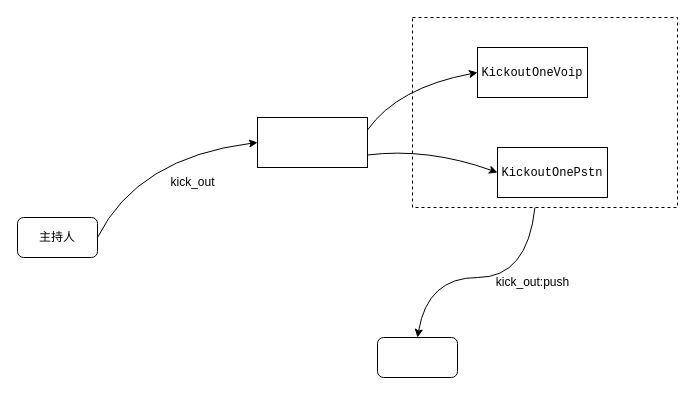
This 695x395 diagram has some shape labels left out. Here are the shapes that lost their labels. From the top down, the centre of each, then its label:
At point (312, 142): "meeting_control".
At point (417, 357): "参会者".
